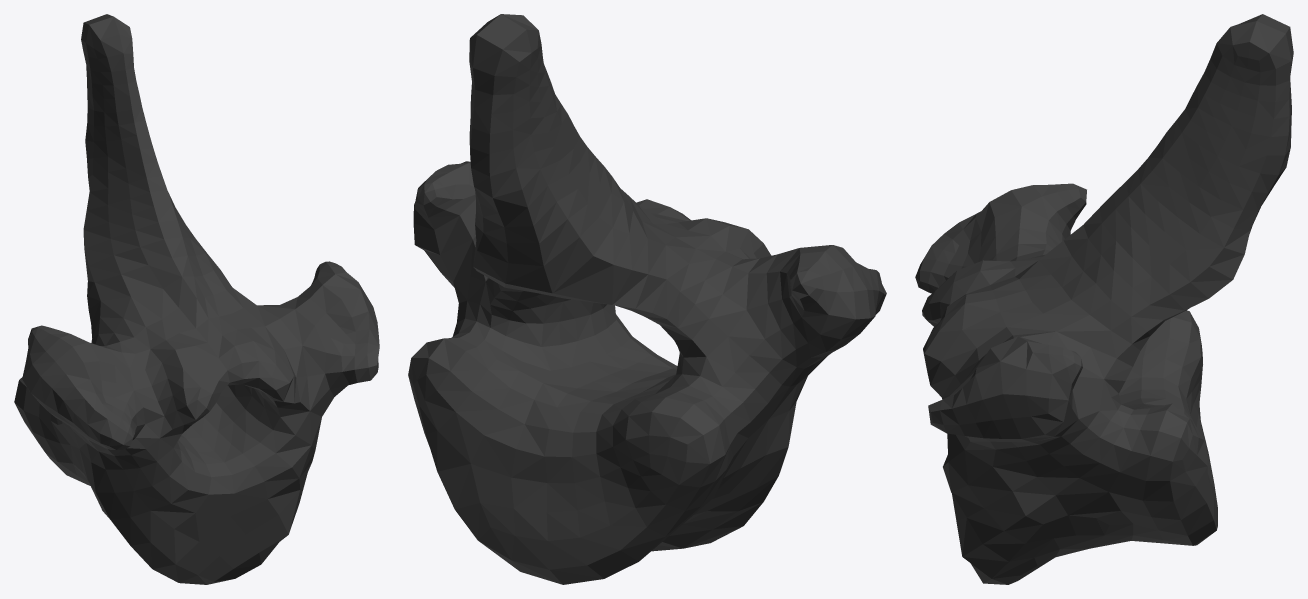
3 renders of one model, left to right at view 1: azimuth 30°, elevation 25°; view 2: azimuth 150°, elevation 25°; view 3: azimuth 270°, elevation 25°, orthographic. The views are drawn at different scales.
Parts seen in each view (by area): view 1: T9; view 2: T9; view 3: T9.
Part boxes in pixels (box(x1,y1,x2,y2)): T9: box(14, 14, 379, 584); T9: box(408, 14, 886, 584); T9: box(915, 14, 1293, 584).
Size of the model in its own units: 2.14 by 2.91 by 1.78.
Materials: 1 (1 with a texture image).
